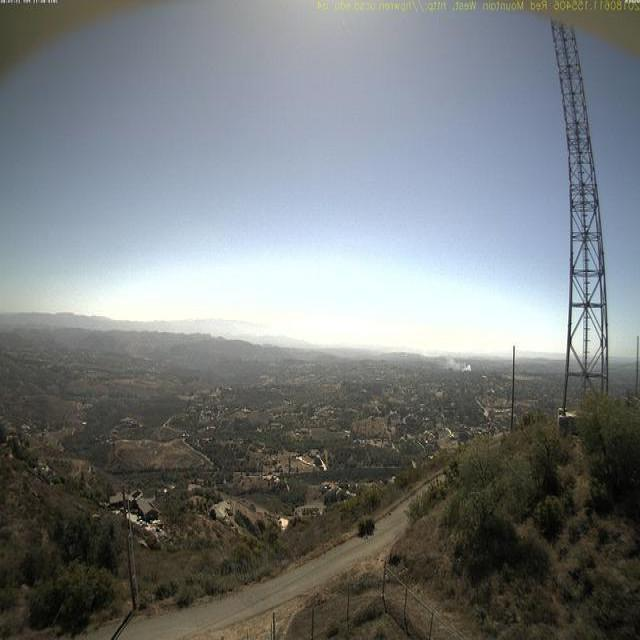Smoke: (414, 344, 476, 372)
